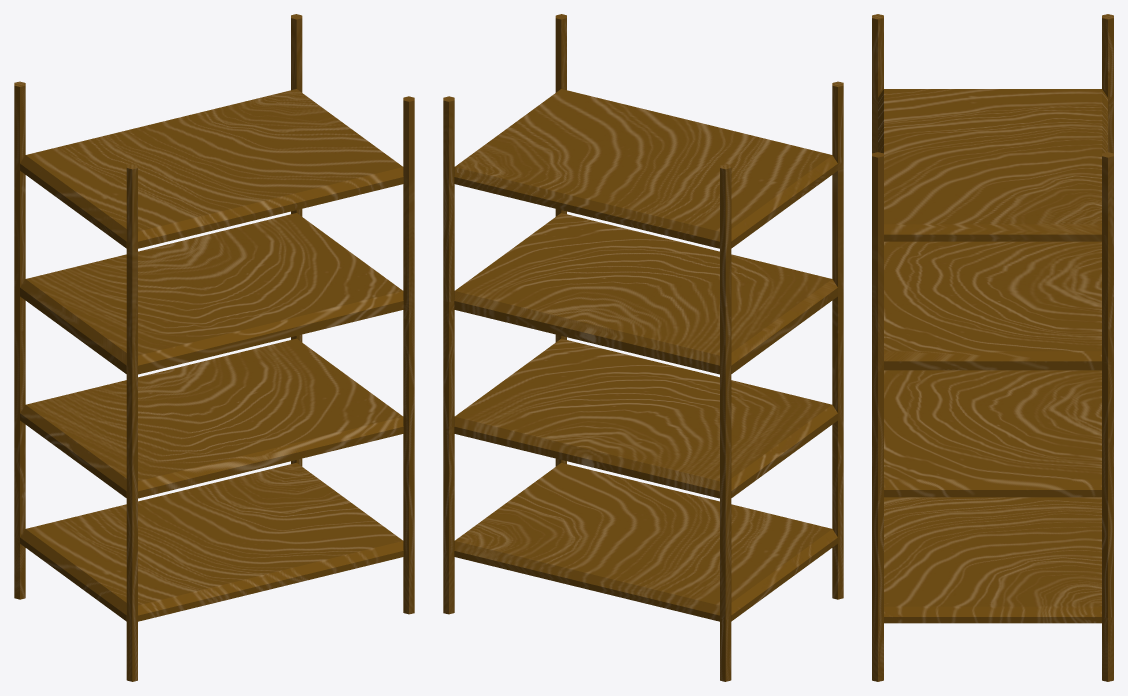
The model's file is Regal_textured_1x1.fbx.
3 views of the same model, side by side, from view 1: azimuth 30°, elevation 25°; view 2: azimuth 150°, elevation 25°; view 3: azimuth 270°, elevation 25° (orthographic). The views are drawn at different scales.
Visible parts, largest first — view 1: Regal_1x1; view 2: Regal_1x1; view 3: Regal_1x1.
Part boxes in pixels (left/top/right/bottom): Regal_1x1: left=14, top=14, right=414, bottom=681; Regal_1x1: left=443, top=14, right=843, bottom=681; Regal_1x1: left=872, top=14, right=1113, bottom=681.
Size of the model in its own units: 99.88 by 170 by 71.05.
